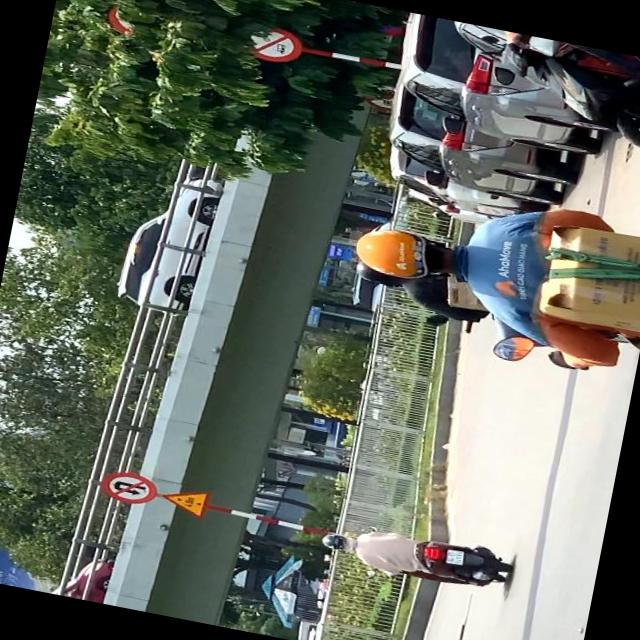P-124a1: (101, 468, 158, 507)
W-239b: (158, 484, 210, 518)
